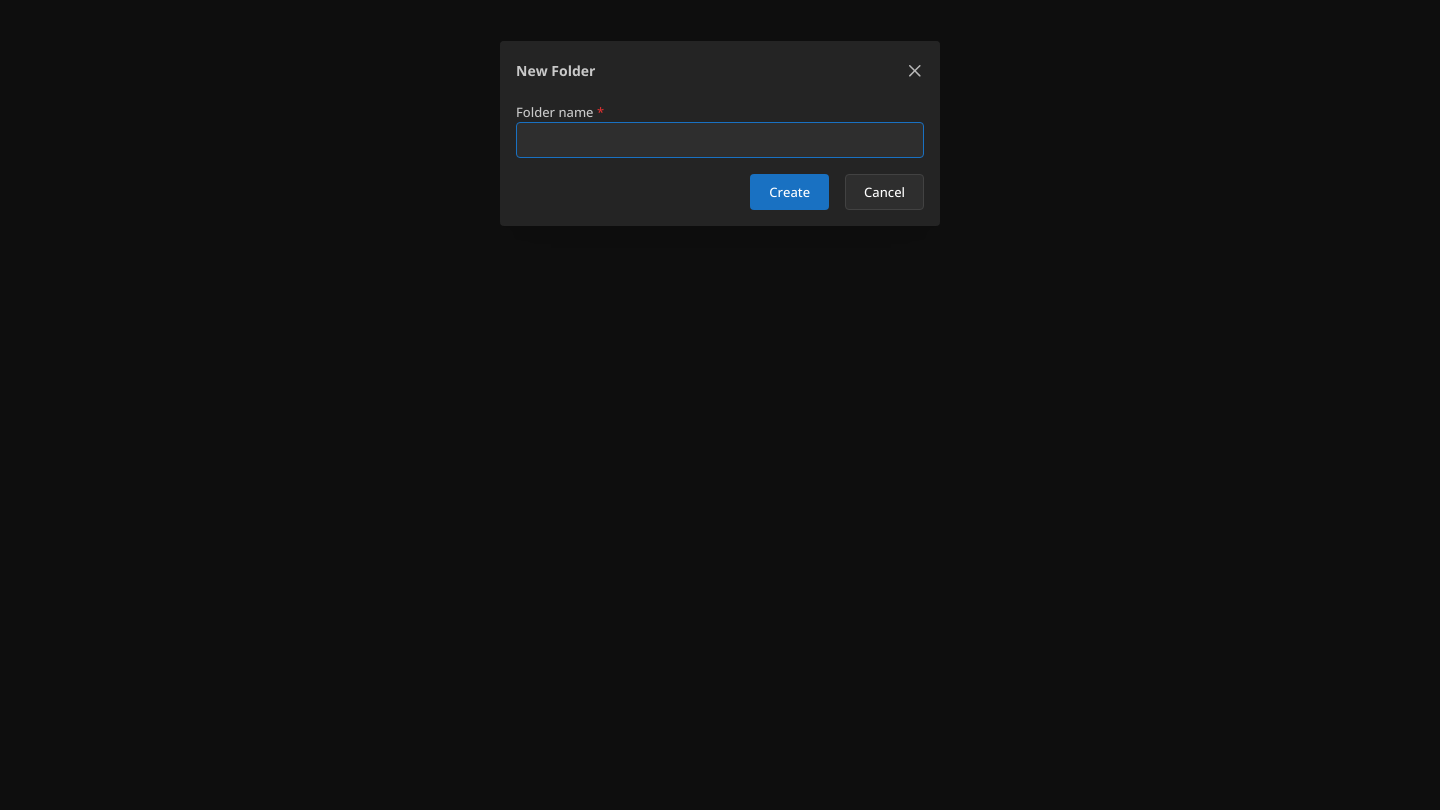
Scenario: NewFolderModal › displays an error if name has invalid characters
Type "test/1/?/3" into the field labelled "Folder name" at (720, 140), box x1=516 y1=122 x2=924 y2=158
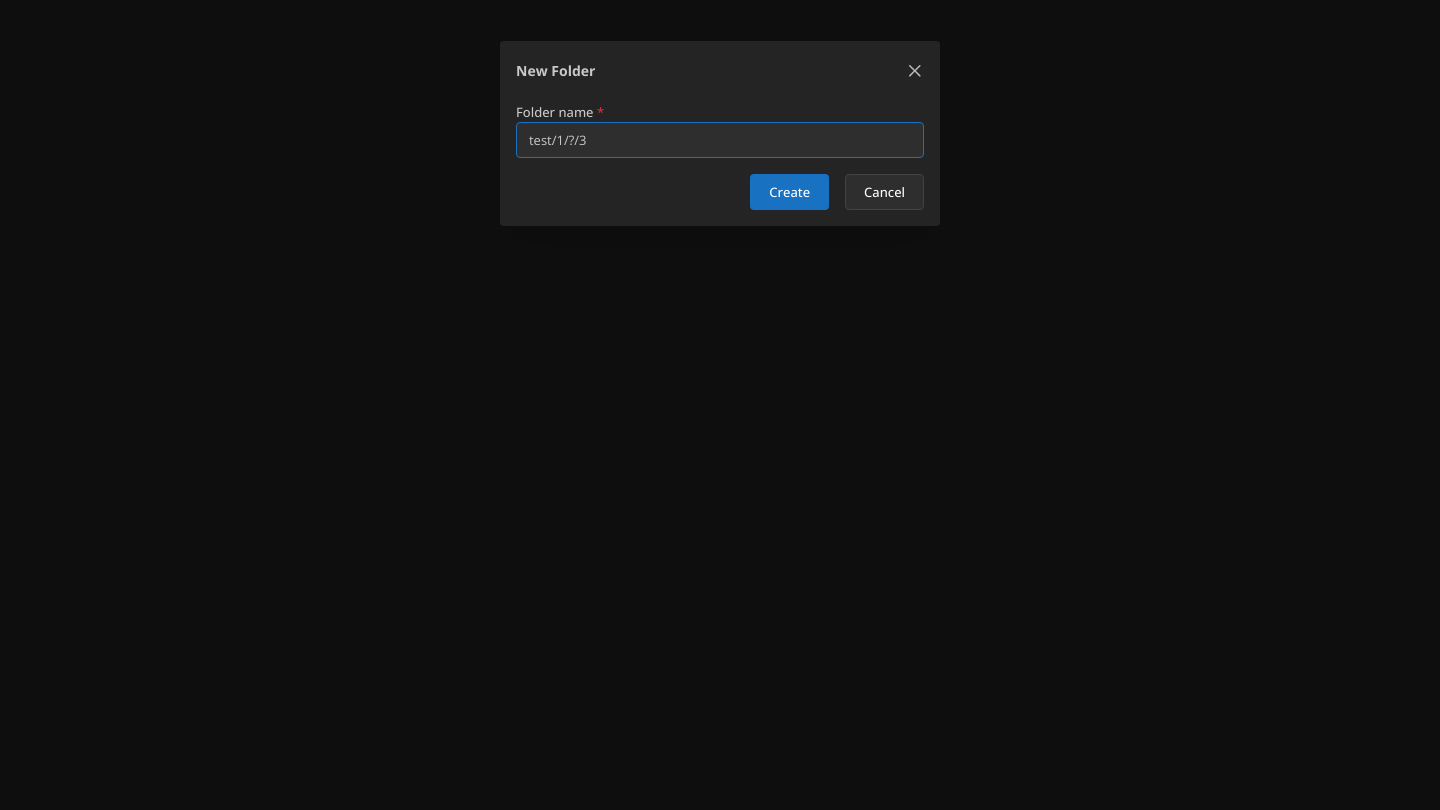
Click the button "Create" at (790, 192), box x1=750 y1=174 x2=829 y2=210
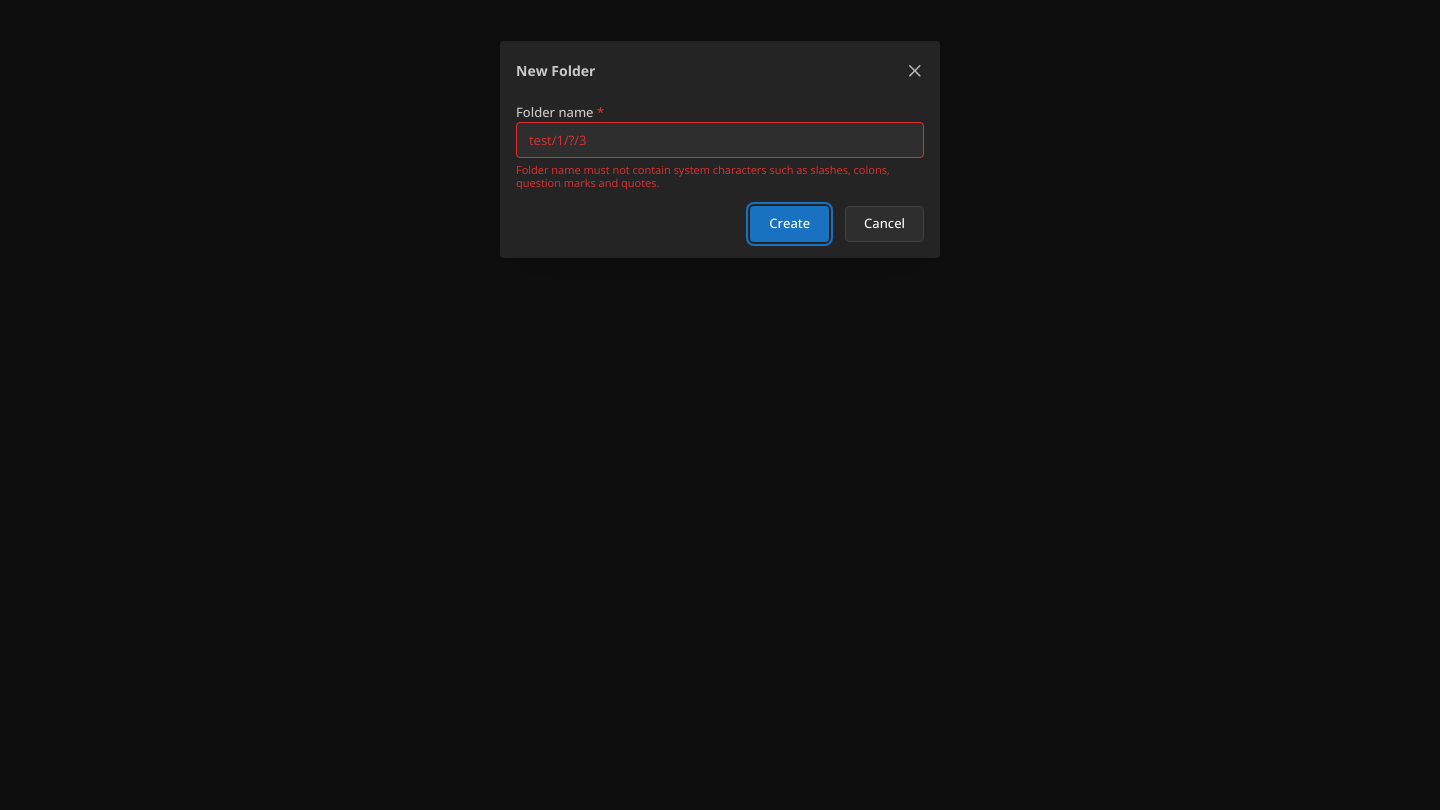
Expected: the text "Folder name must not contain system characters such as slashes, colons, question marks and quotes." is shown, x1=516 y1=162 x2=890 y2=190
